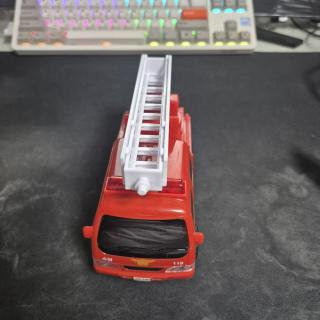Fire_truck: (83, 54, 204, 281)
